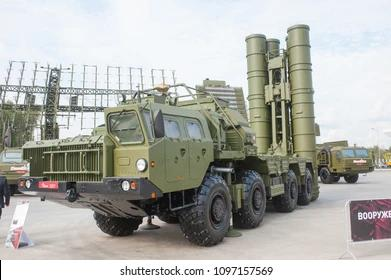MIL_SAM_TEL: (17, 24, 323, 252)
